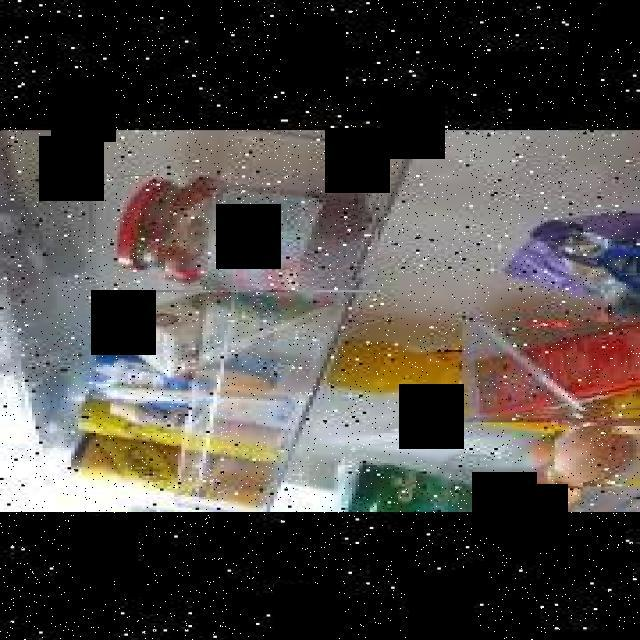egg: (554, 426, 640, 484), (509, 474, 583, 512)
marmelade: (117, 175, 380, 290)
tomato_sauce: (462, 322, 640, 420)
